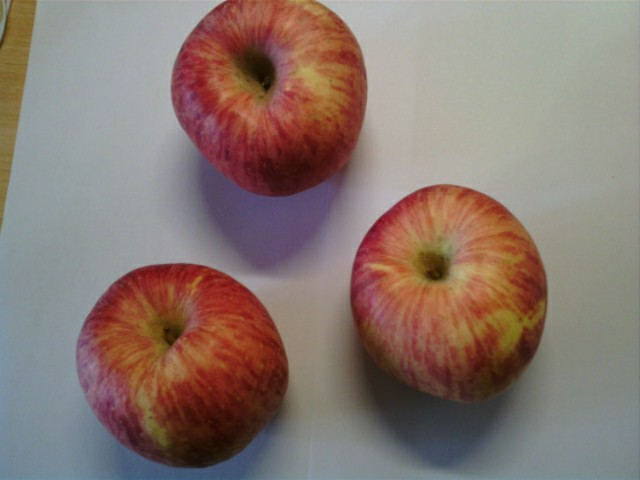normal_apple: (349, 181, 551, 407), (74, 263, 291, 470), (169, 1, 368, 200)
